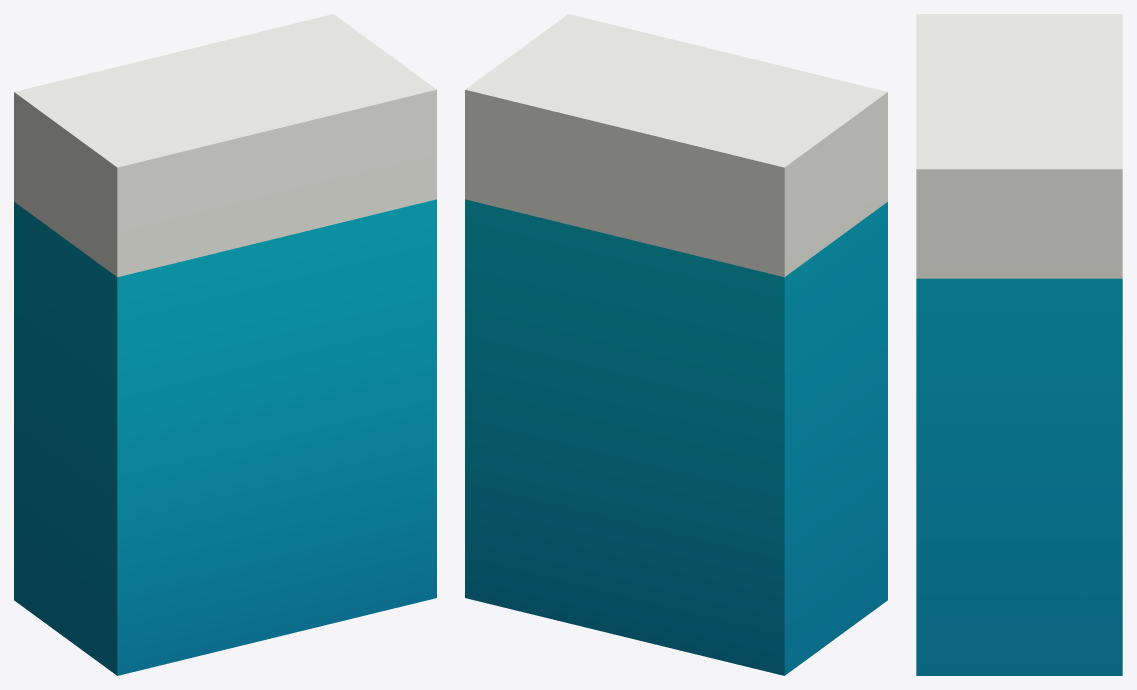
File: LaundryDetergent_Powder_big_Laundromat.fbx
The picture shows the model from 3 angles, left to right: view 1: azimuth 30°, elevation 25°; view 2: azimuth 150°, elevation 25°; view 3: azimuth 270°, elevation 25°; orthographic projection.
Visible parts, largest first — view 1: LaundryDetergent_Powder_big.Laundromat; view 2: LaundryDetergent_Powder_big.Laundromat; view 3: LaundryDetergent_Powder_big.Laundromat.
Part boxes in pixels (x1,y1,x2,y2): LaundryDetergent_Powder_big.Laundromat: [14, 14, 436, 675]; LaundryDetergent_Powder_big.Laundromat: [465, 14, 887, 675]; LaundryDetergent_Powder_big.Laundromat: [916, 14, 1122, 675].
Bounding box in the file's own units: 31.61 × 48.06 × 17.72.
Materials: 1 (1 with a texture image).
